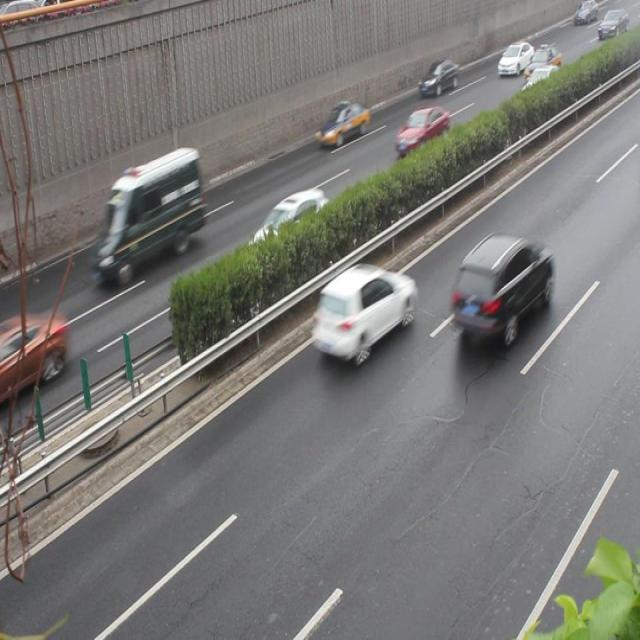car: (448, 230, 552, 342), (308, 263, 412, 360), (247, 187, 329, 268), (0, 307, 66, 395), (393, 104, 446, 159), (312, 100, 368, 150)
